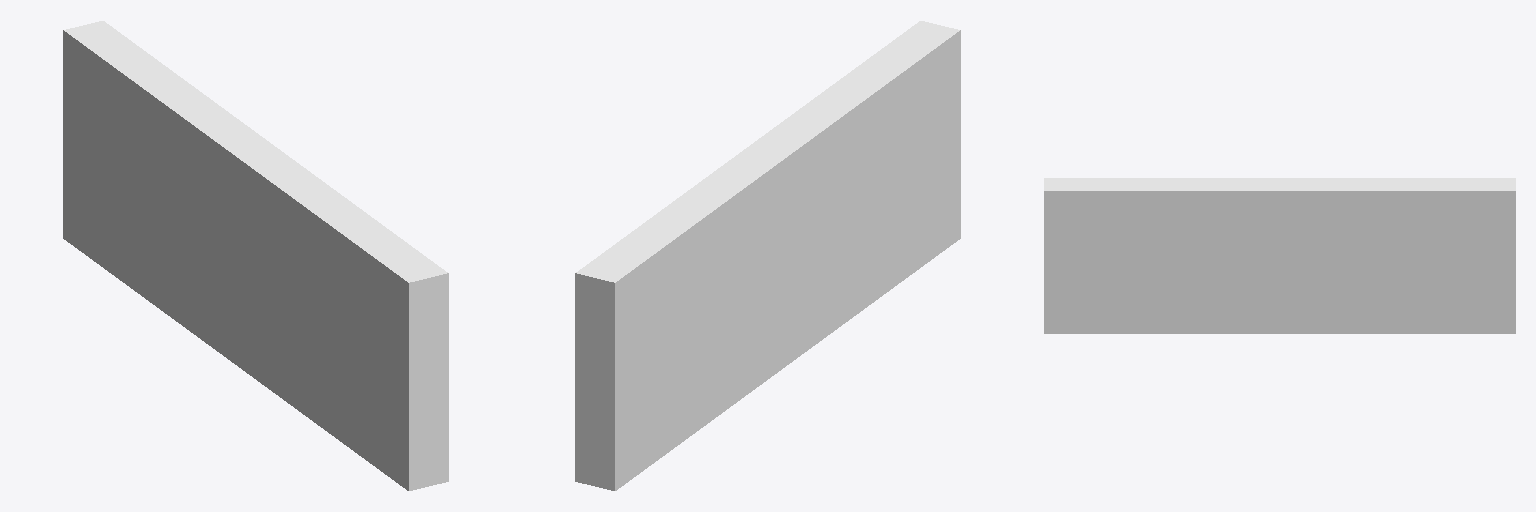
The robot description file, URDF, robot "side_boundary_shuku.SLDPRT":
<?xml version="1.0" encoding="utf-8"?>
<!-- This URDF was automatically created by SolidWorks to URDF Exporter! Originally created by [author] ([email redacted]) 
     Commit Version: 1.5.1-0-g916b5db  Build Version: 1.5.7152.31018
     For more information, please see http://wiki.ros.org/sw_urdf_exporter -->
<robot
  name="side_boundary_shuku.SLDPRT">
  <link
    name="side_boundary_shuku.SLDPRT">
    <inertial>
      <origin
        xyz="0.01 -0.15 0.05"
        rpy="0 0 0" />
      <mass
        value="0.6" />
      <inertia
        ixx="0.005"
        ixy="8.7829E-19"
        ixz="5.50010000000005E-21"
        iyy="0.00052"
        iyz="2.44921270764475E-19"
        izz="0.00452" />
    </inertial>
    <visual>
      <origin
        xyz="0 0 0"
        rpy="1.5707963267949 0 0" />
      <geometry>
        <mesh
          filename="package://side_boundary_shuku.SLDPRT/meshes/side_boundary_shuku.SLDPRT.STL" />
      </geometry>
      <material
        name="">
        <color
          rgba="1 1 1 1" />
        <texture
          filename="package://side_boundary_shuku.SLDPRT/textures/" />
      </material>
    </visual>
    <collision>
      <origin
        xyz="0 0 0"
        rpy="1.5707963267949 0 0" />
      <geometry>
        <mesh
          filename="package://side_boundary_shuku.SLDPRT/meshes/side_boundary_shuku.SLDPRT.STL" />
      </geometry>
    </collision>
  </link>
</robot>

--- What the picture shows (computed from the rendered views, not written in the file) ---
3 views of the same robot in one strip: view 1: azimuth 30°, elevation 25°; view 2: azimuth 150°, elevation 25°; view 3: azimuth 270°, elevation 25° (orthographic).
Robot: side_boundary_shuku.SLDPRT — 1 links, 0 joints (none); root link side_boundary_shuku.SLDPRT; default pose: every joint at zero.
Links seen in each view (by area): view 1: side_boundary_shuku.SLDPRT; view 2: side_boundary_shuku.SLDPRT; view 3: side_boundary_shuku.SLDPRT.
Boxes of the visible links, <box> form: side_boundary_shuku.SLDPRT: <box>63,21,448,490</box>; side_boundary_shuku.SLDPRT: <box>575,21,960,490</box>; side_boundary_shuku.SLDPRT: <box>1044,178,1515,333</box>.
Size in the robot's own frame: 0.02 by 0.3 by 0.1 metres.
1 mesh visuals loaded from 1 distinct referenced files (1 binary STL).